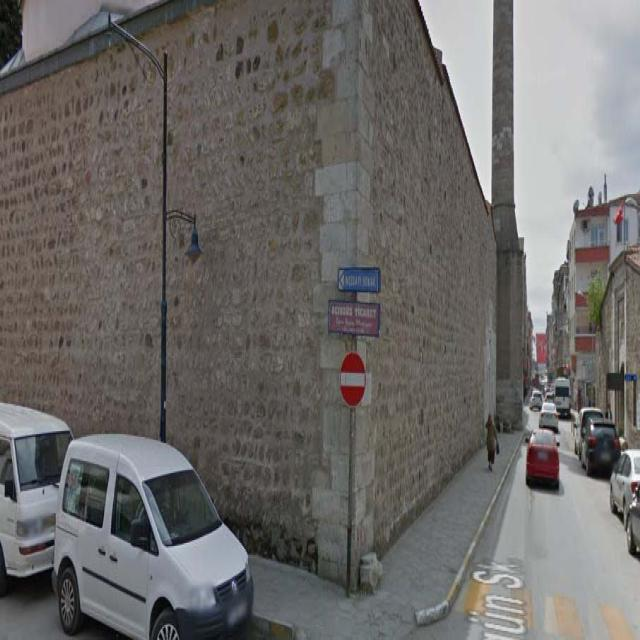girisyok: (341, 351, 365, 407)
